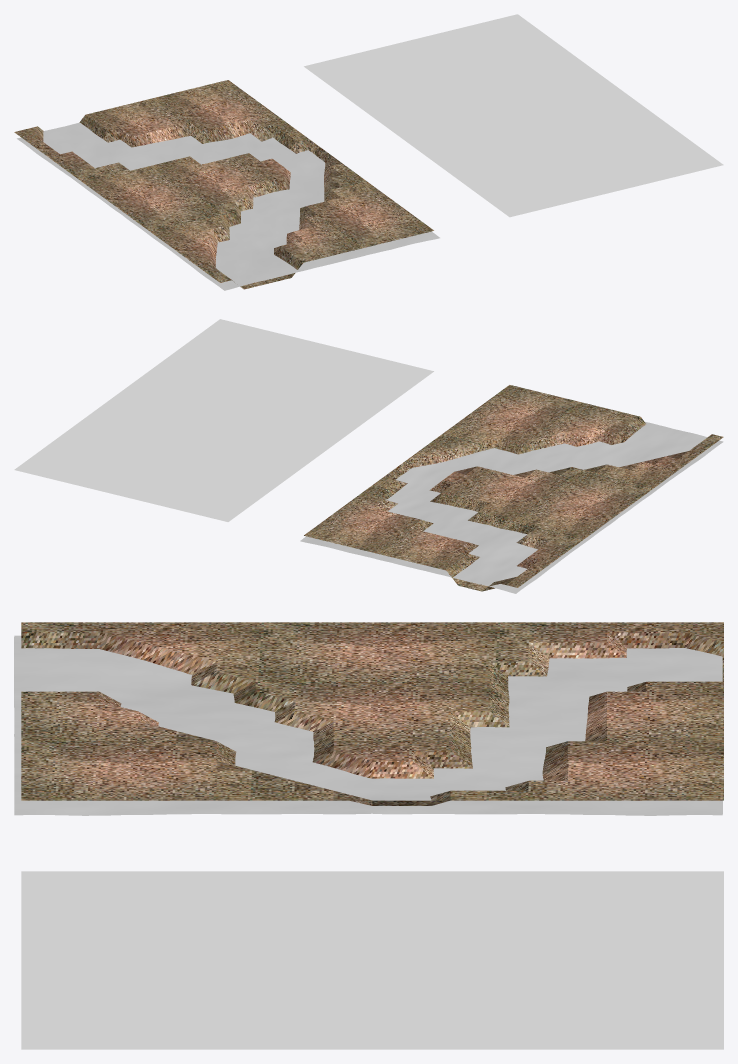
The model's file is Rio.fbx.
3 views of the same model, one above another, from view 1: azimuth 30°, elevation 25°; view 2: azimuth 150°, elevation 25°; view 3: azimuth 270°, elevation 25° (orthographic). The views are drawn at different scales.
Visible parts, largest first — view 1: Plane.001, Plane, Plane.002; view 2: Plane.001, Plane, Plane.002; view 3: Plane.001, Plane, Plane.002.
Part boxes in pixels (<box>): Plane.001: <box>304,14,723,217</box>; Plane: <box>14,80,433,289</box>; Plane.002: <box>17,122,439,290</box>; Plane.001: <box>14,319,433,521</box>; Plane: <box>304,385,723,591</box>; Plane.002: <box>300,422,723,593</box>; Plane.001: <box>21,871,723,1049</box>; Plane: <box>21,622,723,805</box>; Plane.002: <box>14,635,722,815</box>.
Size of the model in its own units: 7052 by 165 by 5053.
